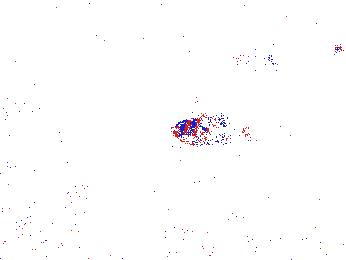X-ray fish: (174, 112, 249, 148), (230, 140, 274, 167)
red belly glassfish: (333, 40, 346, 59)
redtail glassfish: (232, 43, 281, 72)
